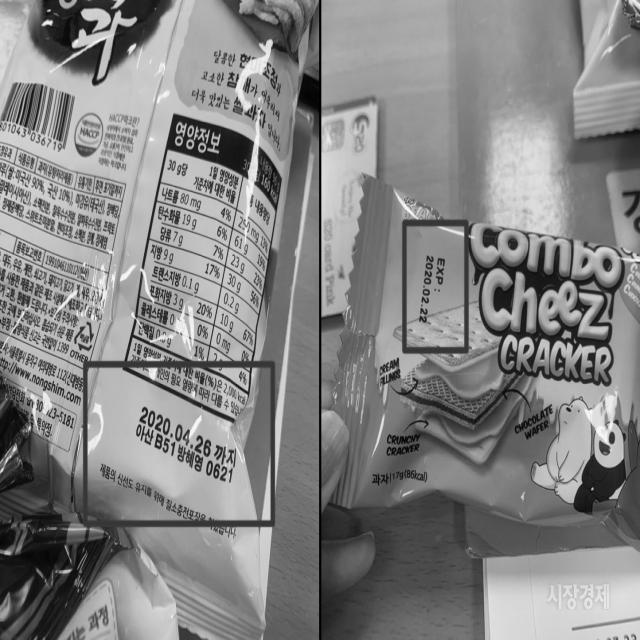Nutrition Label: (115, 101, 282, 434)
